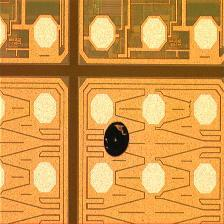PARTICLE: (98, 121, 138, 161)
